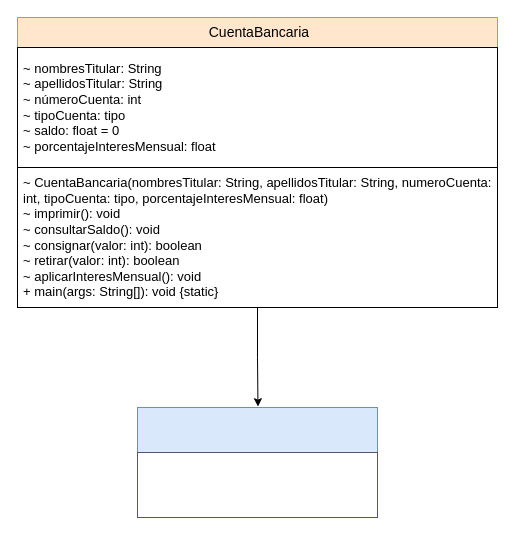
This 515x535 diagram has some shape labels left out. Each missing label, with the centre of its shape:
"<<enumeration>> tipo" belongs at (257,429).
"AHORROS CORRIENTE" belongs at (257,485).
